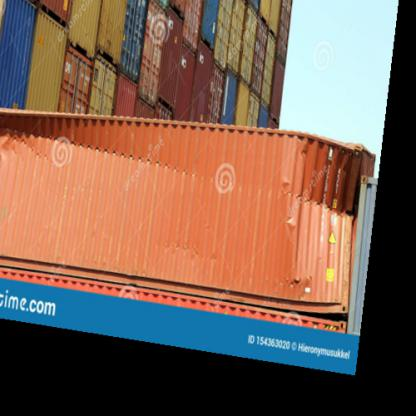Damage: (292, 142, 371, 225)
